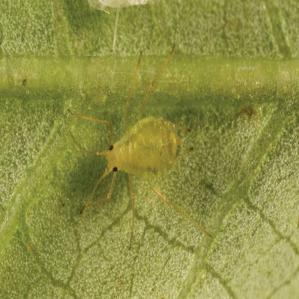Green peach aphid: (53, 87, 201, 213)
